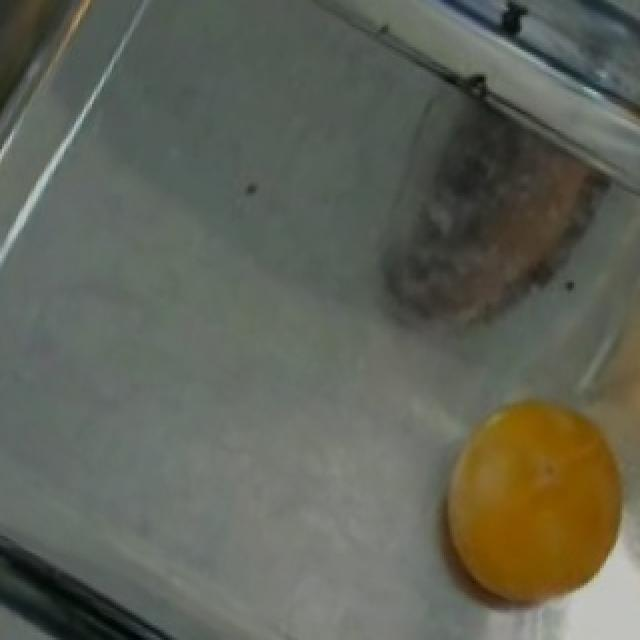Fruit: (426, 375, 640, 630)
